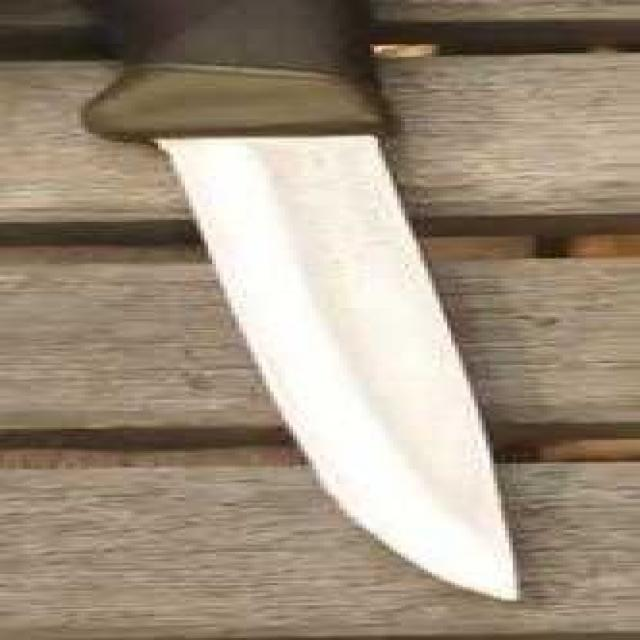knife: (73, 13, 579, 626)
